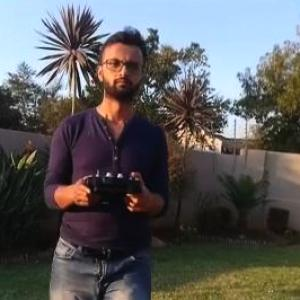follow: (39, 20, 176, 299)
